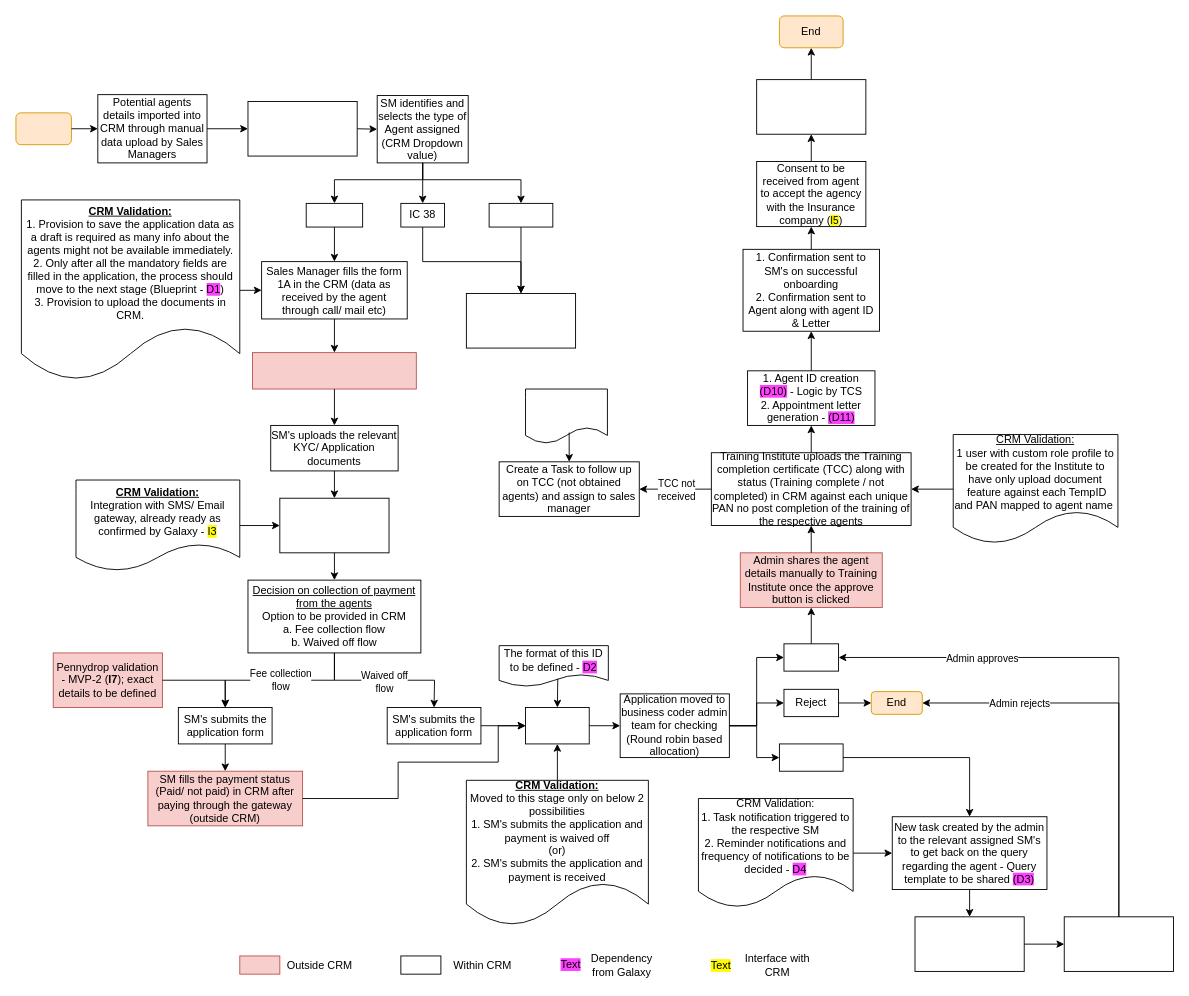
The diagram is 1189 pixels wide and 996 high, and some of its shapes have lost their labels. Here are the shapes that lost their labels. From the top down, the centre of each, then its label:
At point 811,106: "Notification for SM to validate Agent login in Agent portal".
At point 43,128: "Start".
At point 302,128: "All the agents uploaded by SM is mapped to the respective individual".
At point 334,214: "POSP".
At point 520,214: "Composite".
At point 520,320: "Shown in separate flow".
At point 334,370: "KYC validatation manually by SM's".
At point 566,416: "Frequency of notifications to be decided D13".
At point 334,525: "Agent to provide the consent to start the onboarding (OTP based)".
At point 811,657: "Approve".
At point 557,725: "Create Temp ID".
At point 811,757: "Raise a query".
At point 969,943: "SM reviews, acts and resolves the task".
At point 1118,943: "Notification sent back to Admin".
